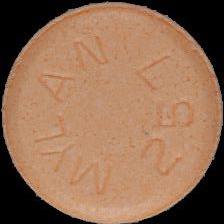51079-734: (0, 0, 224, 224)
